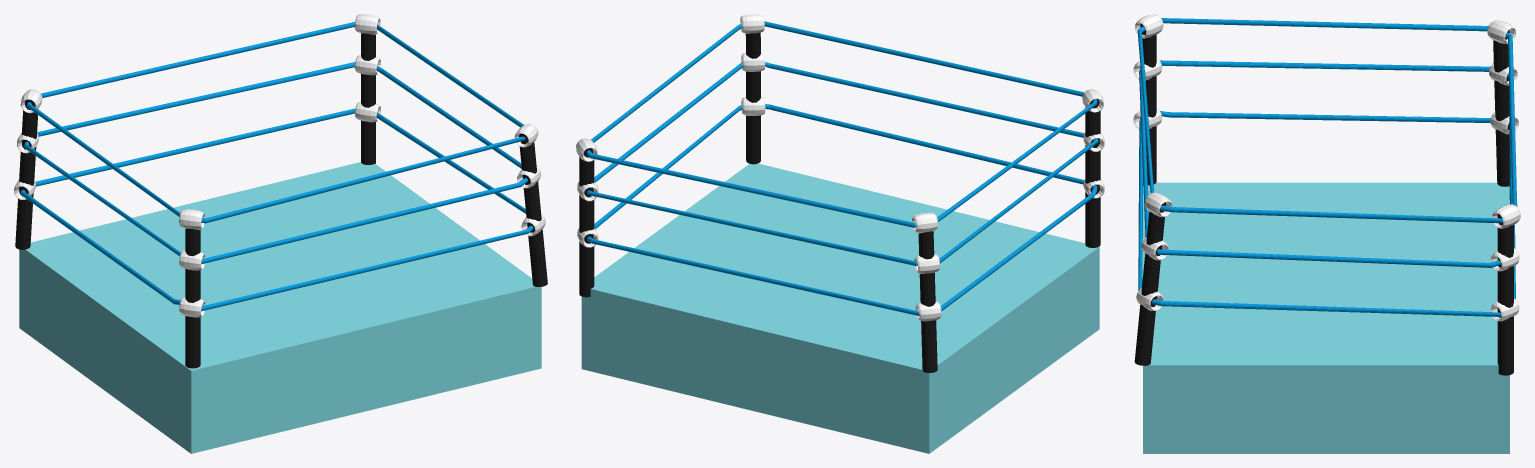
File: scene_DB7EaDqZoa.glb
3 views of the same model, side by side, from view 1: azimuth 30°, elevation 25°; view 2: azimuth 150°, elevation 25°; view 3: azimuth 270°, elevation 25° (orthographic). The views are drawn at different scales.
Visible parts, largest first — view 1: Node; view 2: Node; view 3: Node.
Boxes of the visible parts, left/top/right/bottom form: Node: left=14, top=14, right=547, bottom=453; Node: left=576, top=14, right=1104, bottom=453; Node: left=1133, top=14, right=1520, bottom=453.
Bounding box in the file's own units: 3.33 × 2.08 × 2.85.
